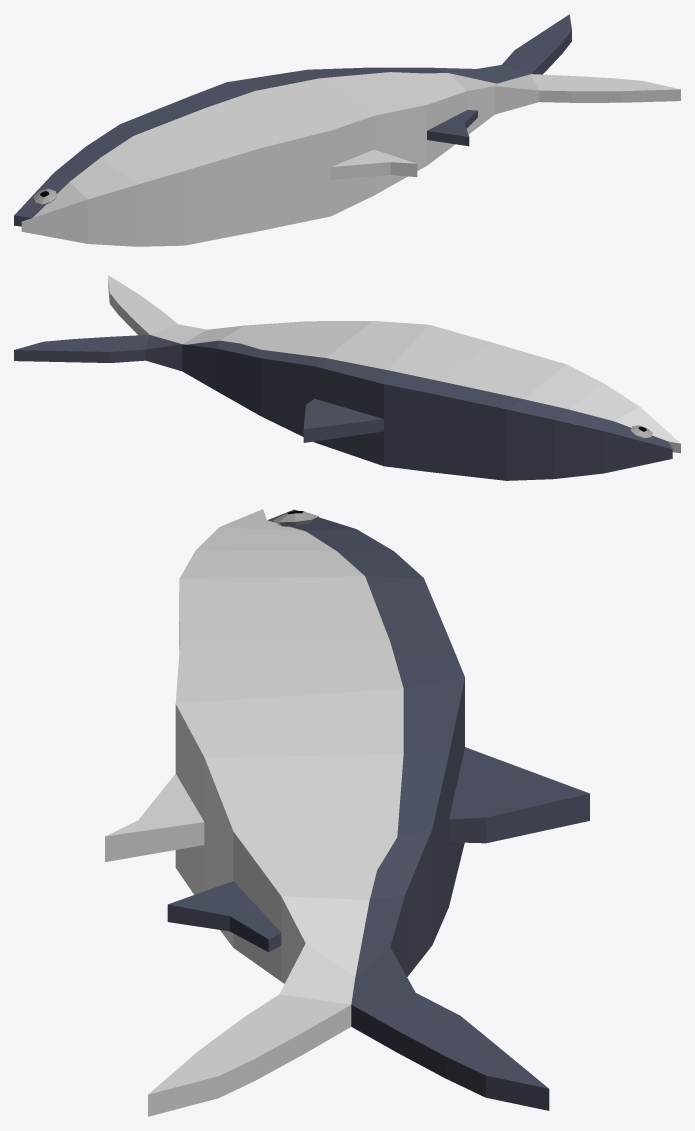
The model's file is Milkfish.fbx.
3 renders of one model, top to bottom at view 1: azimuth 30°, elevation 25°; view 2: azimuth 150°, elevation 25°; view 3: azimuth 270°, elevation 25°, orthographic. The views are drawn at different scales.
Parts seen in each view (by area): view 1: Milkfish; view 2: Milkfish; view 3: Milkfish.
Part boxes in pixels (x1,y1,x2,y2): Milkfish: [14, 14, 680, 246]; Milkfish: [14, 275, 680, 480]; Milkfish: [105, 509, 589, 1116].
Size of the model in its own units: 148 by 19.31 by 51.72.
